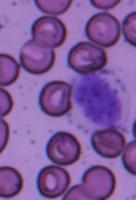M: (74, 70, 133, 130)
